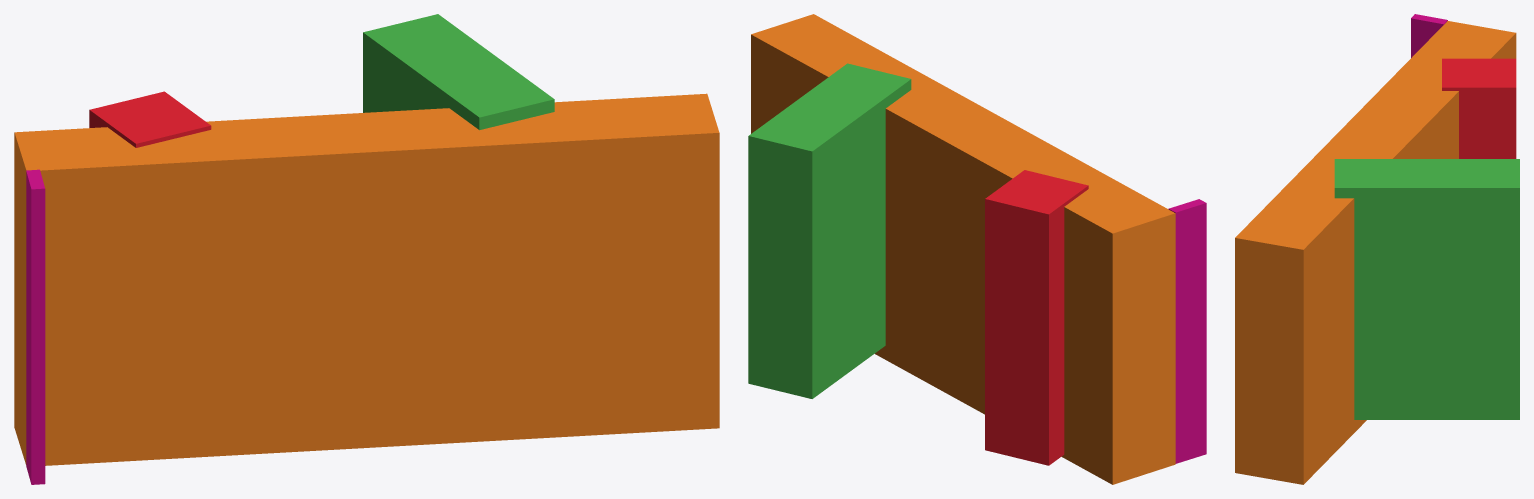
Rendered from tinker.obj.
3 renders of one model, left to right at view 1: azimuth 30°, elevation 25°; view 2: azimuth 150°, elevation 25°; view 3: azimuth 270°, elevation 25°, orthographic. The views are drawn at different scales.
Parts seen in each view (by area): view 1: group_0_16089887, group_0_4634441, group_0_14093196, group_0_15277357; view 2: group_0_16089887, group_0_4634441, group_0_15277357, group_0_14093196; view 3: group_0_16089887, group_0_4634441, group_0_15277357, group_0_14093196.
Part boxes in pixels (left/top/right/bottom): group_0_16089887: left=14, top=93, right=719, bottom=465; group_0_4634441: left=363, top=14, right=554, bottom=130; group_0_14093196: left=26, top=169, right=45, bottom=484; group_0_15277357: left=89, top=91, right=211, bottom=147; group_0_16089887: left=751, top=14, right=1175, bottom=484; group_0_4634441: left=748, top=63, right=911, bottom=398; group_0_15277357: left=985, top=170, right=1088, bottom=465; group_0_14093196: left=1168, top=199, right=1206, bottom=463; group_0_16089887: left=1235, top=21, right=1516, bottom=484; group_0_4634441: left=1334, top=159, right=1519, bottom=419; group_0_15277357: left=1442, top=58, right=1516, bottom=158; group_0_14093196: left=1411, top=14, right=1447, bottom=57.
Bounding box in the file's own units: 150 × 73 × 76.88.
